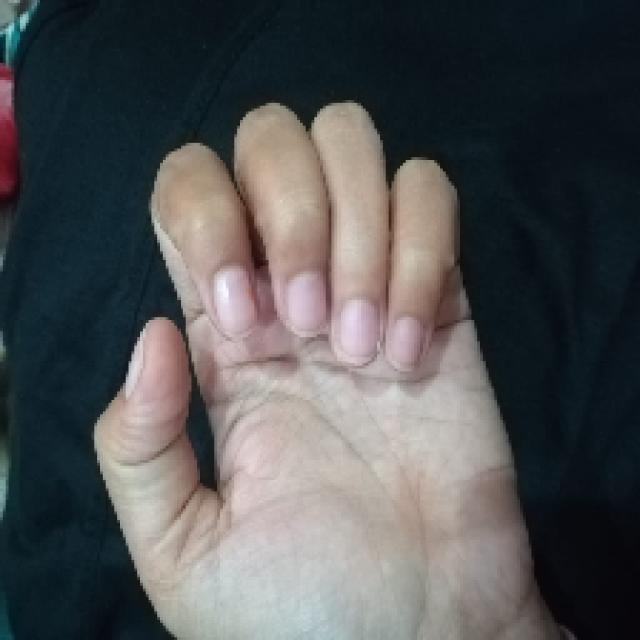Nail: (214, 265, 256, 334), (339, 299, 380, 362), (286, 271, 326, 332), (386, 315, 422, 369), (124, 326, 147, 399)
